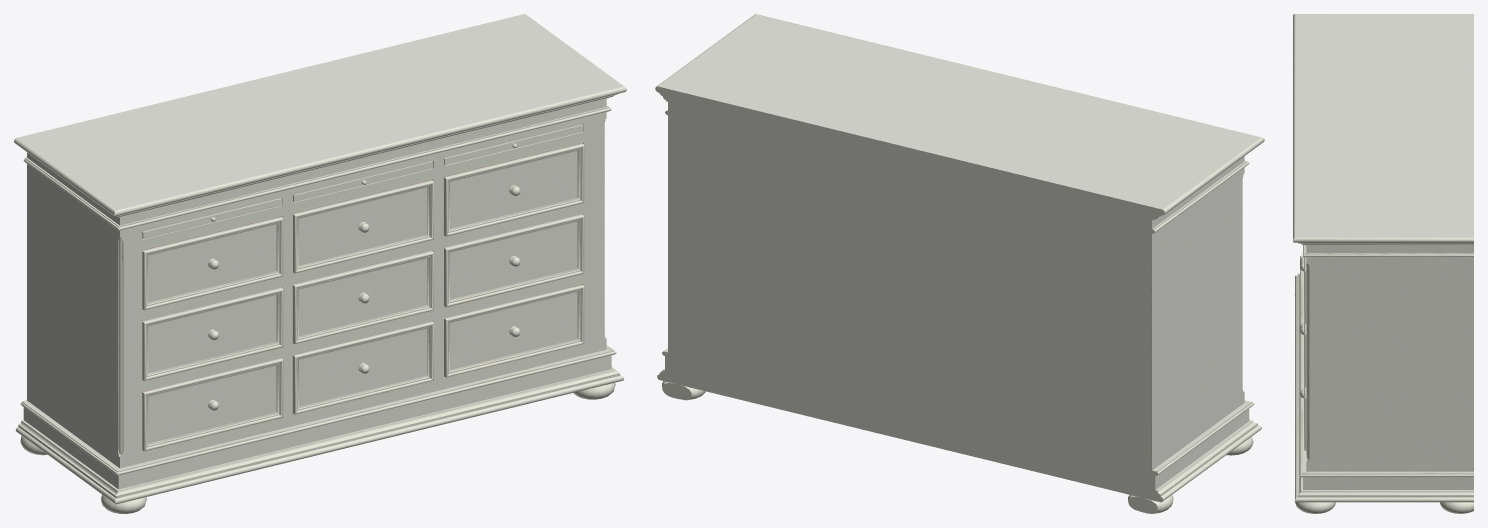
3 renders of one model, left to right at view 1: azimuth 30°, elevation 25°; view 2: azimuth 150°, elevation 25°; view 3: azimuth 270°, elevation 25°, orthographic. The views are drawn at different scales.
Parts seen in each view (by area): view 1: Object_2; view 2: Object_2; view 3: Object_2.
Part boxes in pixels (x1,y1,x2,y2): Object_2: (14,14,626,513); Object_2: (655,14,1264,513); Object_2: (1293,14,1473,513).
Size of the model in its own units: 147 by 85.01 by 50.
Materials: 1 (1 with a texture image).
